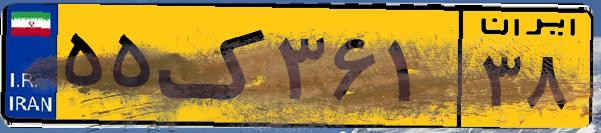1: (385, 28, 445, 110)
3: (270, 28, 330, 110), (475, 38, 525, 113)
5: (57, 26, 110, 100), (110, 28, 158, 98)
6: (330, 28, 385, 110)
8: (525, 38, 570, 115)
ک: (158, 12, 270, 120)
